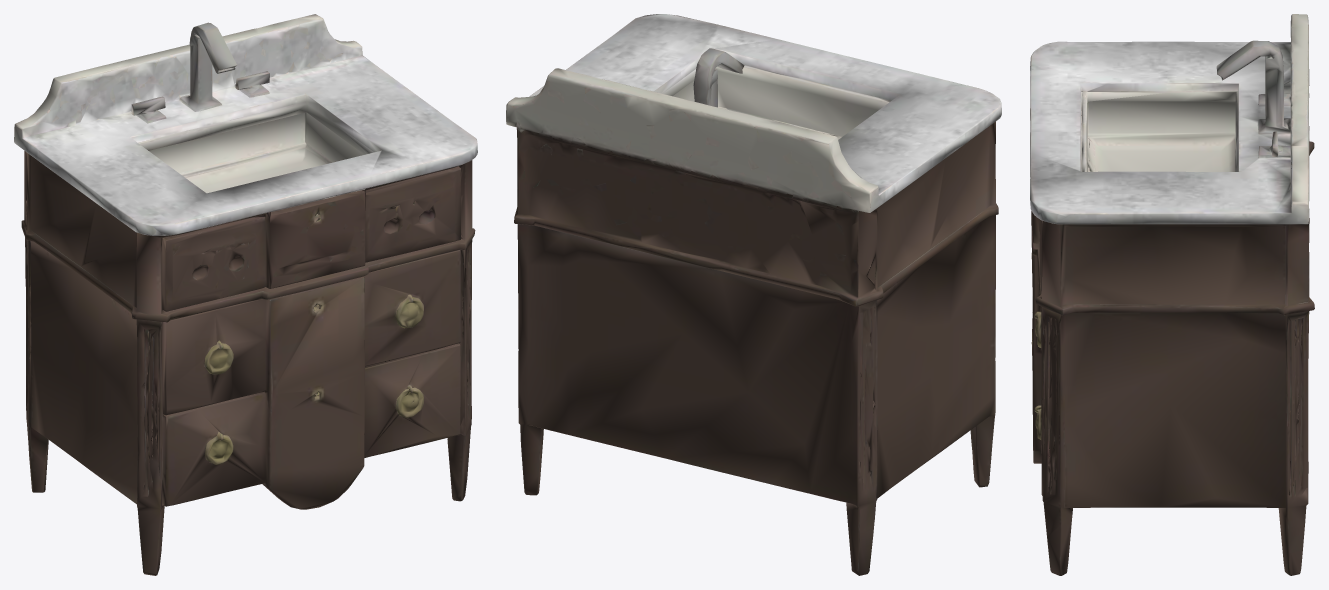
Rendered from 8fP4q5JDCWJFWKRUMswge.glb.
The picture shows the model from 3 angles, left to right: view 1: azimuth 30°, elevation 25°; view 2: azimuth 150°, elevation 25°; view 3: azimuth 270°, elevation 25°; orthographic projection. The views are drawn at different scales.
Visible parts, largest first — view 1: geometry_0; view 2: geometry_0; view 3: geometry_0.
Boxes of the visible parts, bbox=[...] form: geometry_0: bbox=[14, 14, 477, 575]; geometry_0: bbox=[506, 14, 1001, 575]; geometry_0: bbox=[1030, 14, 1314, 575].
Size of the model in its own units: 0.8169 by 1 by 0.5694.
Materials: 1 (1 with a texture image).
